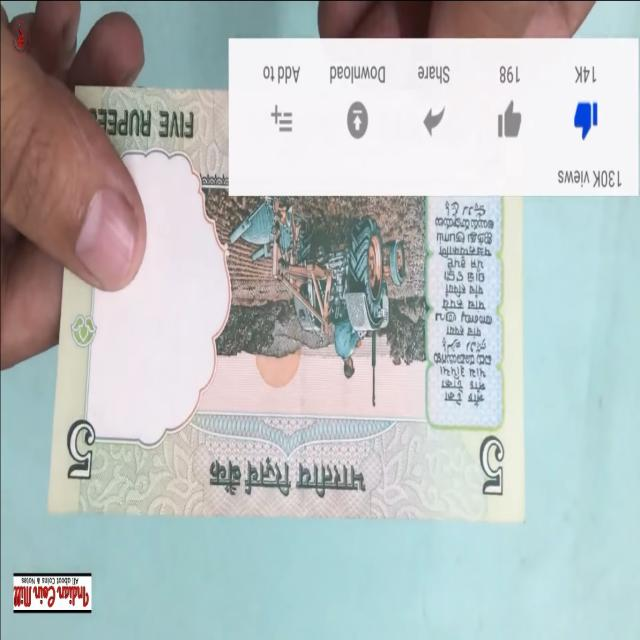5IndianRupees: (47, 85, 526, 519)
